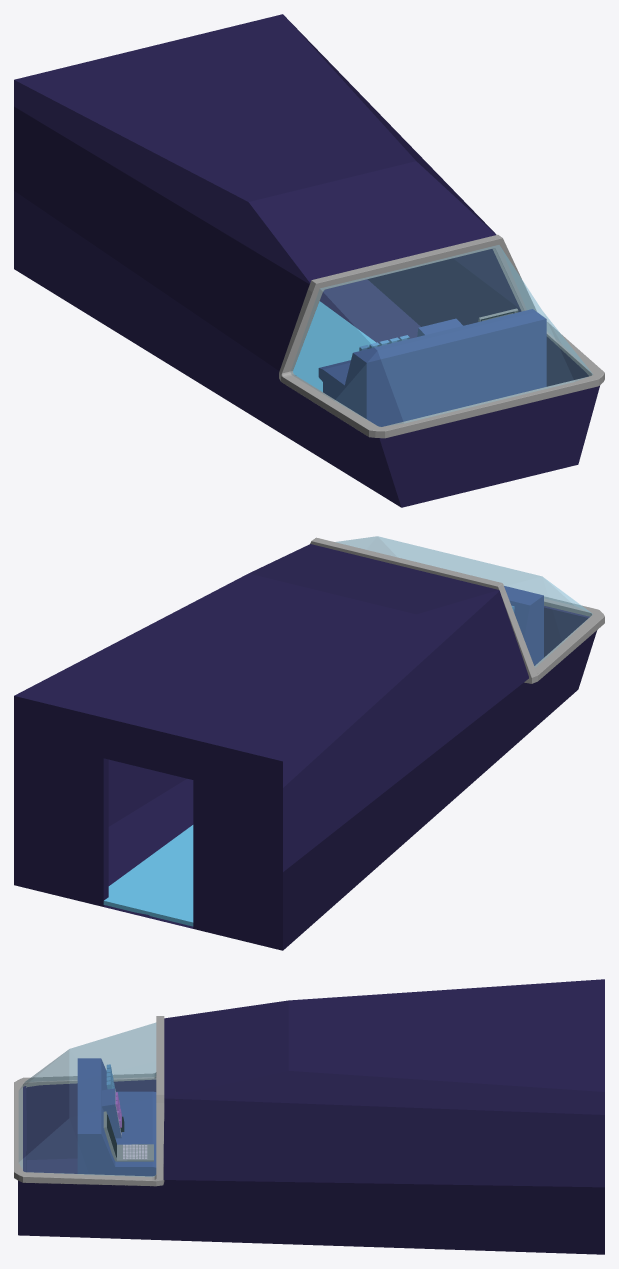
Rendered from Cabina.fbx.
3 renders of one model, top to bottom at view 1: azimuth 30°, elevation 25°; view 2: azimuth 150°, elevation 25°; view 3: azimuth 270°, elevation 25°, orthographic. The views are drawn at different scales.
Parts seen in each view (by area): view 1: Cabina, Consola; view 2: Cabina, Consola; view 3: Cabina, Consola.
Part boxes in pixels (x1,y1,x2,y2): Cabina: (14, 14, 604, 507); Consola: (318, 308, 546, 426); Cabina: (14, 536, 604, 950); Consola: (504, 586, 543, 665); Cabina: (14, 979, 604, 1254); Consola: (77, 1058, 156, 1176).
Bounding box in the file's own units: 2836 × 1908 × 6280.
